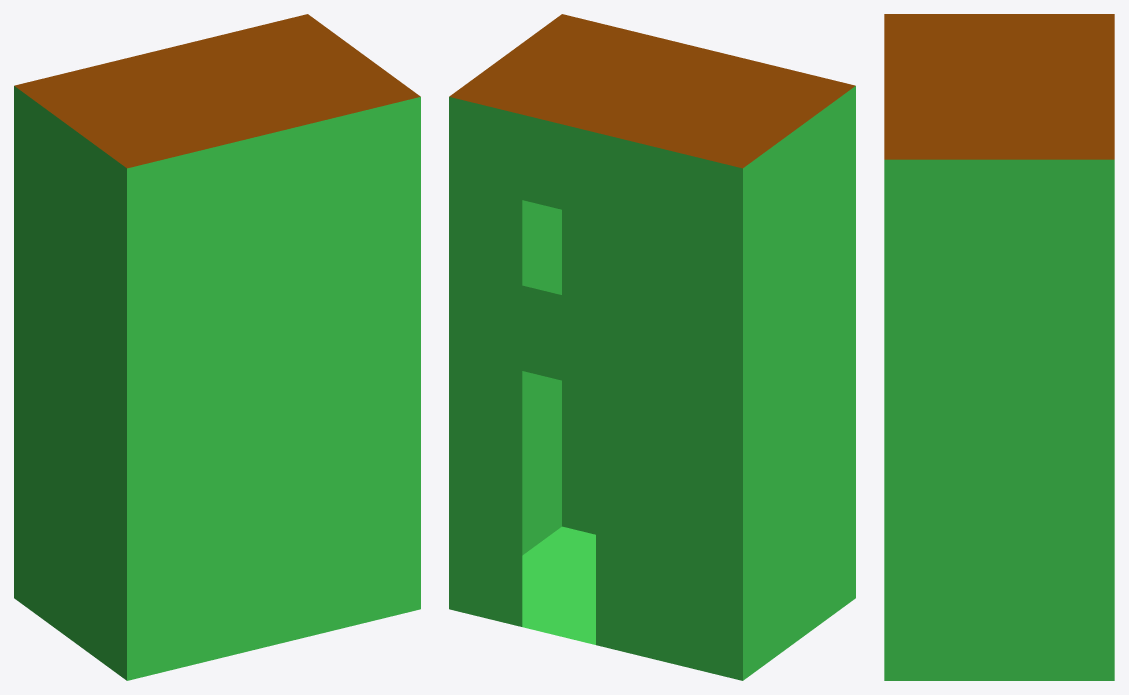
The model's file is green4.gltf.
3 views of the same model, side by side, from view 1: azimuth 30°, elevation 25°; view 2: azimuth 150°, elevation 25°; view 3: azimuth 270°, elevation 25° (orthographic).
Parts seen in each view (by area): view 1: Cube; view 2: Cube; view 3: Cube.
Part boxes in pixels (x1=…): Cube: x1=14, y1=14, x2=420, y2=680; Cube: x1=449, y1=14, x2=855, y2=680; Cube: x1=884, y1=14, x2=1114, y2=680.
Bounding box in the file's own units: 6 × 10 × 4.
